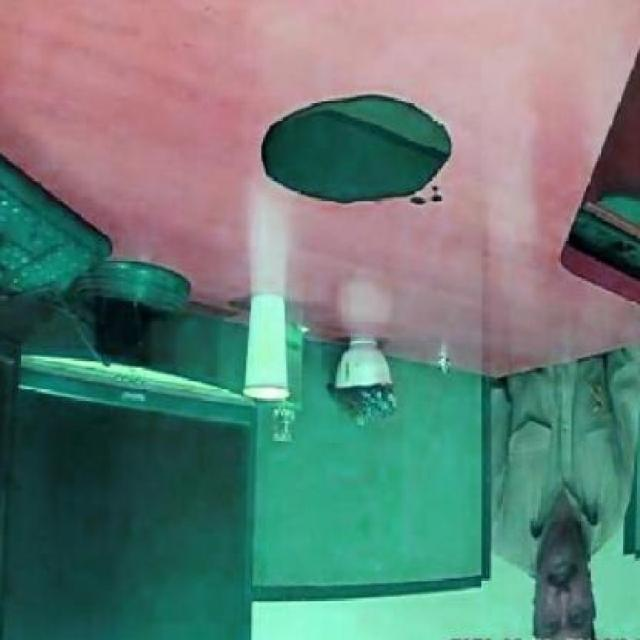spillage: (265, 93, 452, 208)
